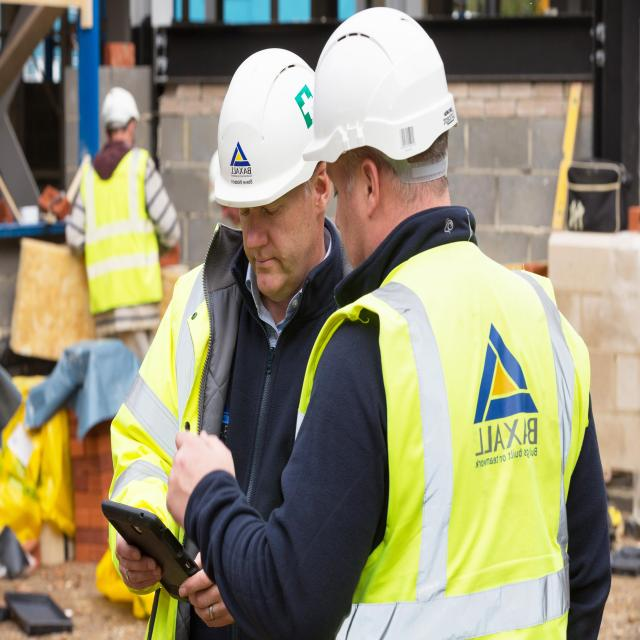Reflective-Jacket: (300, 248, 588, 635), (96, 257, 240, 635), (78, 144, 165, 319)
Safety-Helmet: (309, 4, 462, 170), (208, 42, 318, 210), (100, 81, 142, 128)
